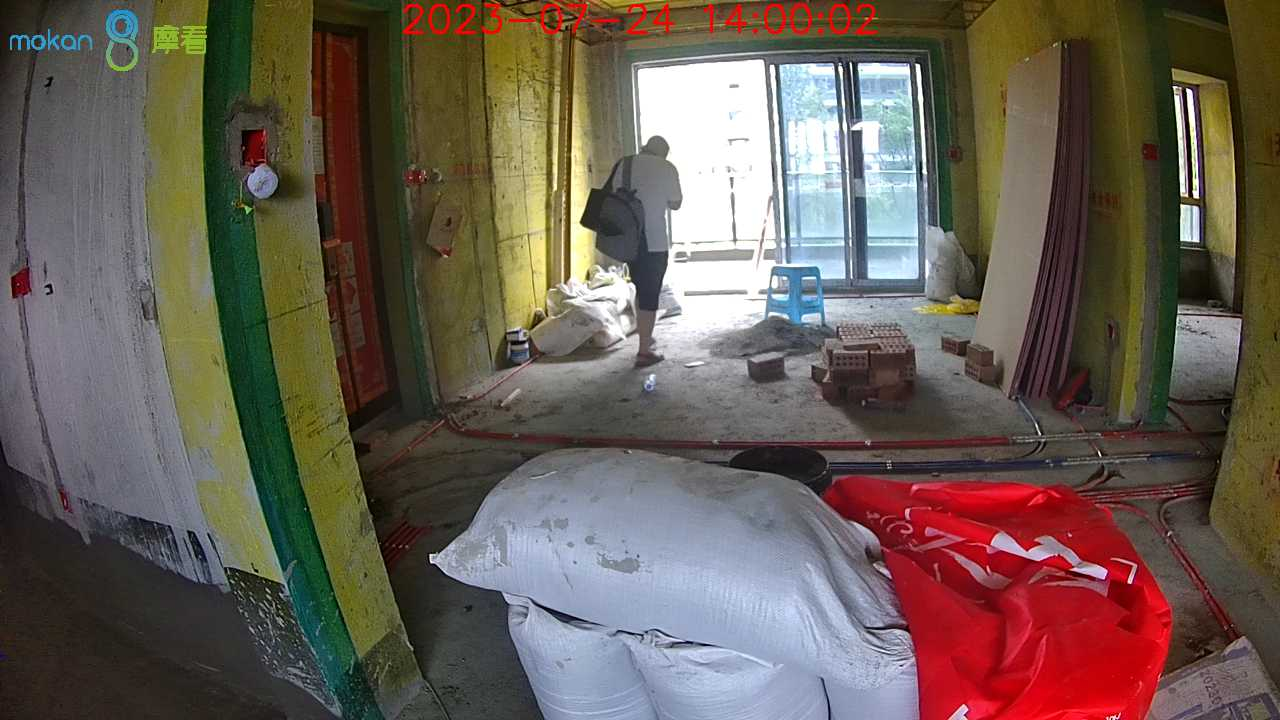people: (608, 134, 684, 369)
window: (627, 59, 938, 294), (1168, 80, 1208, 243)
